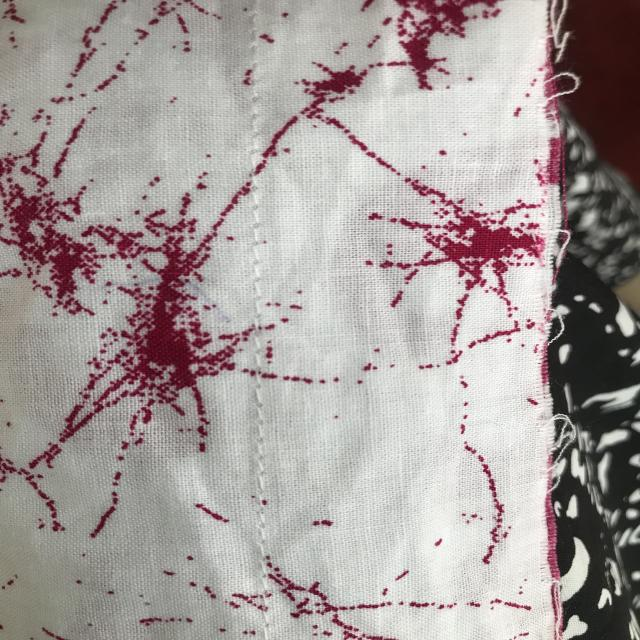good: (229, 186, 277, 315), (237, 390, 282, 517)
